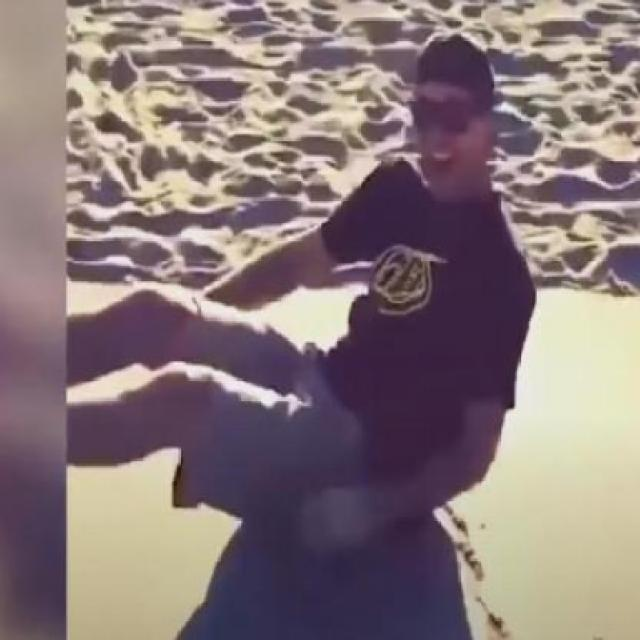fall: (68, 42, 535, 546)
